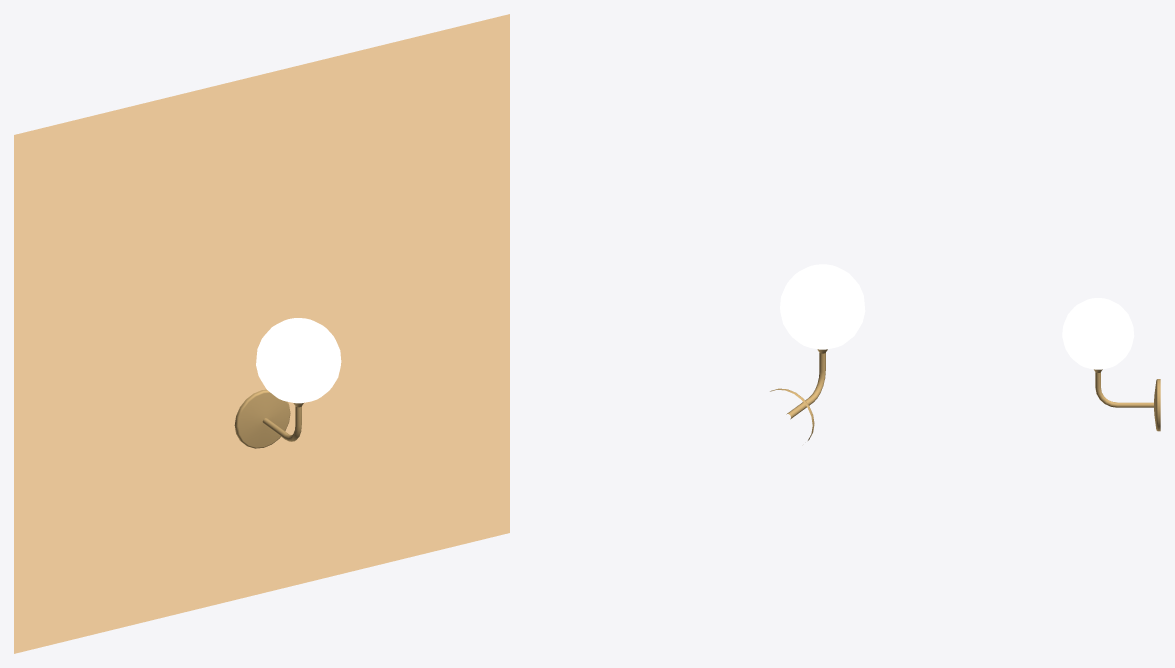
The model's file is wall_lamp.glb.
The picture shows the model from 3 angles, left to right: view 1: azimuth 30°, elevation 25°; view 2: azimuth 150°, elevation 25°; view 3: azimuth 270°, elevation 25°; orthographic projection. The views are drawn at different scales.
Parts seen in each view (by area): view 1: wall_lamp_Glow, wall_lamp_LOD0; view 2: wall_lamp_LOD0; view 3: wall_lamp_LOD0.
Part boxes in pixels (box(x1,y1,x2,y2)): wall_lamp_Glow: box(14, 14, 509, 653); wall_lamp_LOD0: box(234, 318, 341, 448); wall_lamp_LOD0: box(770, 264, 865, 440); wall_lamp_LOD0: box(1062, 298, 1160, 431).
Size of what is drawn, in the model's own units: 1 by 1 by 0.2048.
4 materials, 2 textured.
